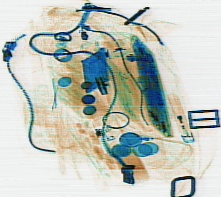lighter: (165, 89, 193, 144)
